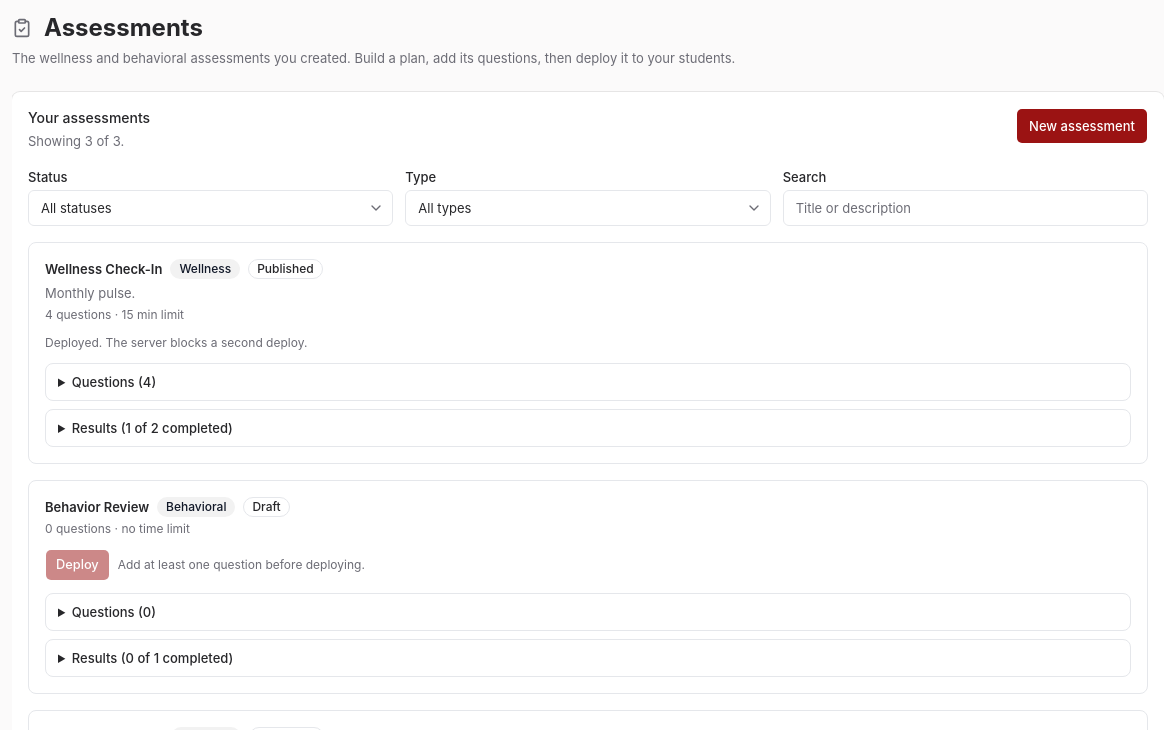
Test: AssessmentsPage › searches title and description
Expected: the heading "Wellness Check-In" is shown, [45,259,162,279]
In the search field labelled "Search": (965, 208) [783,190,1148,226], type "closed out"
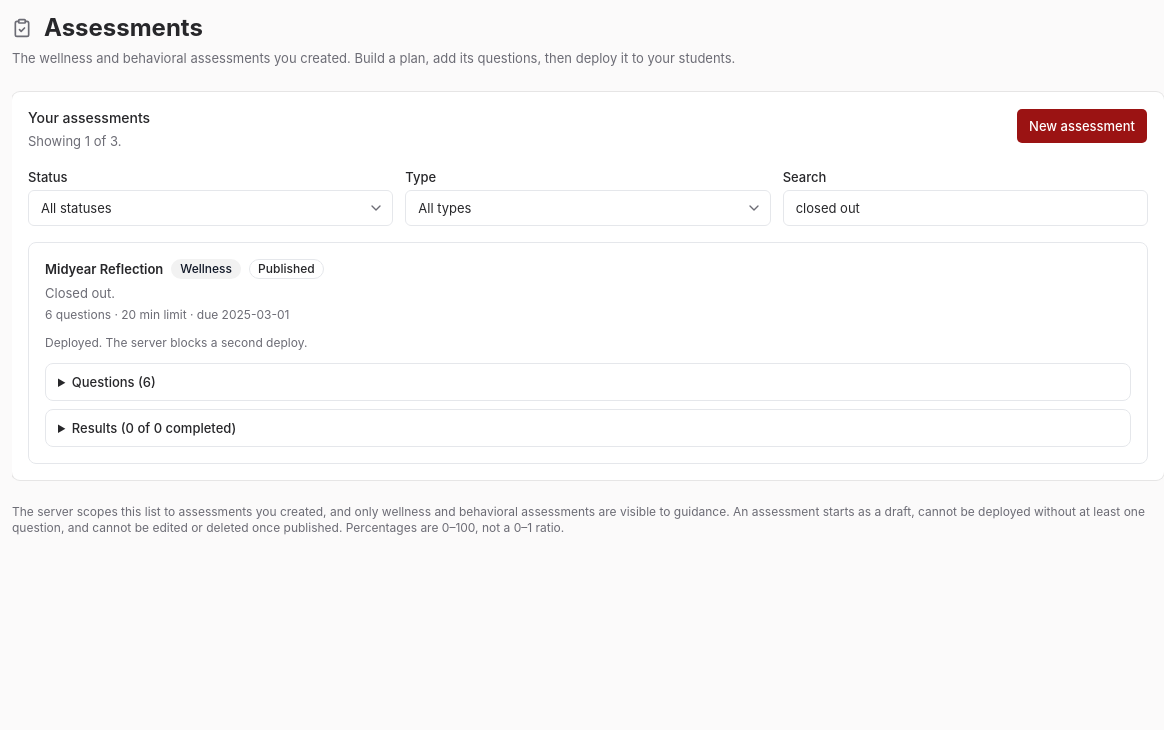
Expected: the heading "Midyear Reflection" is shown, [45,259,163,279]
Expected: the heading "Wellness Check-In" is gone
